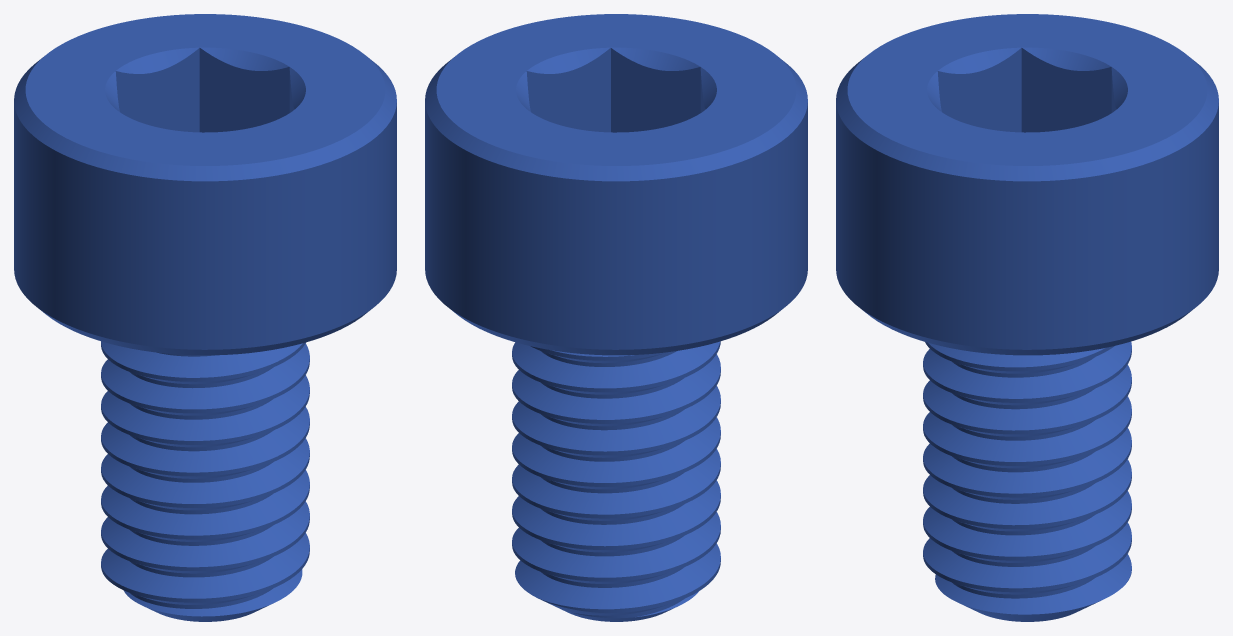
The model's file is Exc_Motor_5203_2402_0188_50.obj.
3 views of the same model, side by side, from view 1: azimuth 30°, elevation 25°; view 2: azimuth 150°, elevation 25°; view 3: azimuth 270°, elevation 25° (orthographic).
Visible parts, largest first — view 1: mesh28604; view 2: mesh28604; view 3: mesh28604.
Boxes of the visible parts, x1=… form: mesh28604: x1=14, y1=14, x2=396, y2=621; mesh28604: x1=425, y1=14, x2=807, y2=621; mesh28604: x1=836, y1=14, x2=1218, y2=621.
Size of the model in its own units: 0.0055 by 0.008 by 0.0055.
